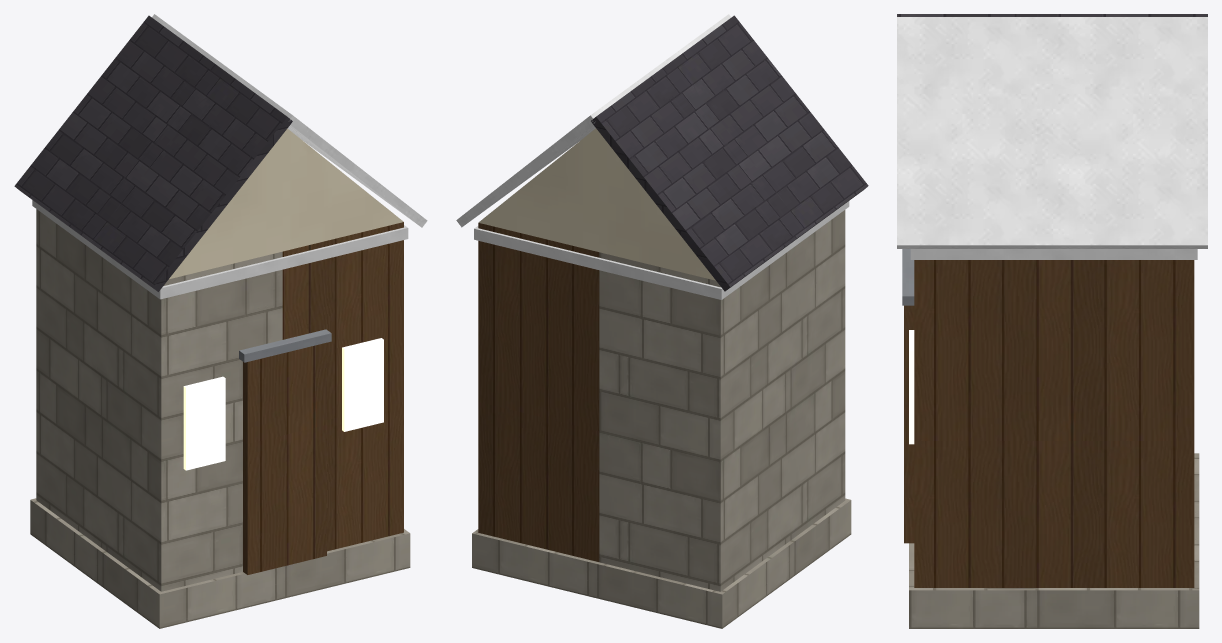
Rendered from protocol.frax.glb.
The picture shows the model from 3 angles, left to right: view 1: azimuth 30°, elevation 25°; view 2: azimuth 150°, elevation 25°; view 3: azimuth 270°, elevation 25°; orthographic projection. The views are drawn at different scales.
Visible parts, largest first — view 1: building.protocol.frax; view 2: building.protocol.frax; view 3: building.protocol.frax.
Part boxes in pixels (x1,y1,x2,y2): building.protocol.frax: (14,14,427,628); building.protocol.frax: (456,14,868,628); building.protocol.frax: (897,14,1207,628).
Bounding box in the file's own units: 2.08 × 3.52 × 1.82.
Materials: 8 (7 with a texture image).
